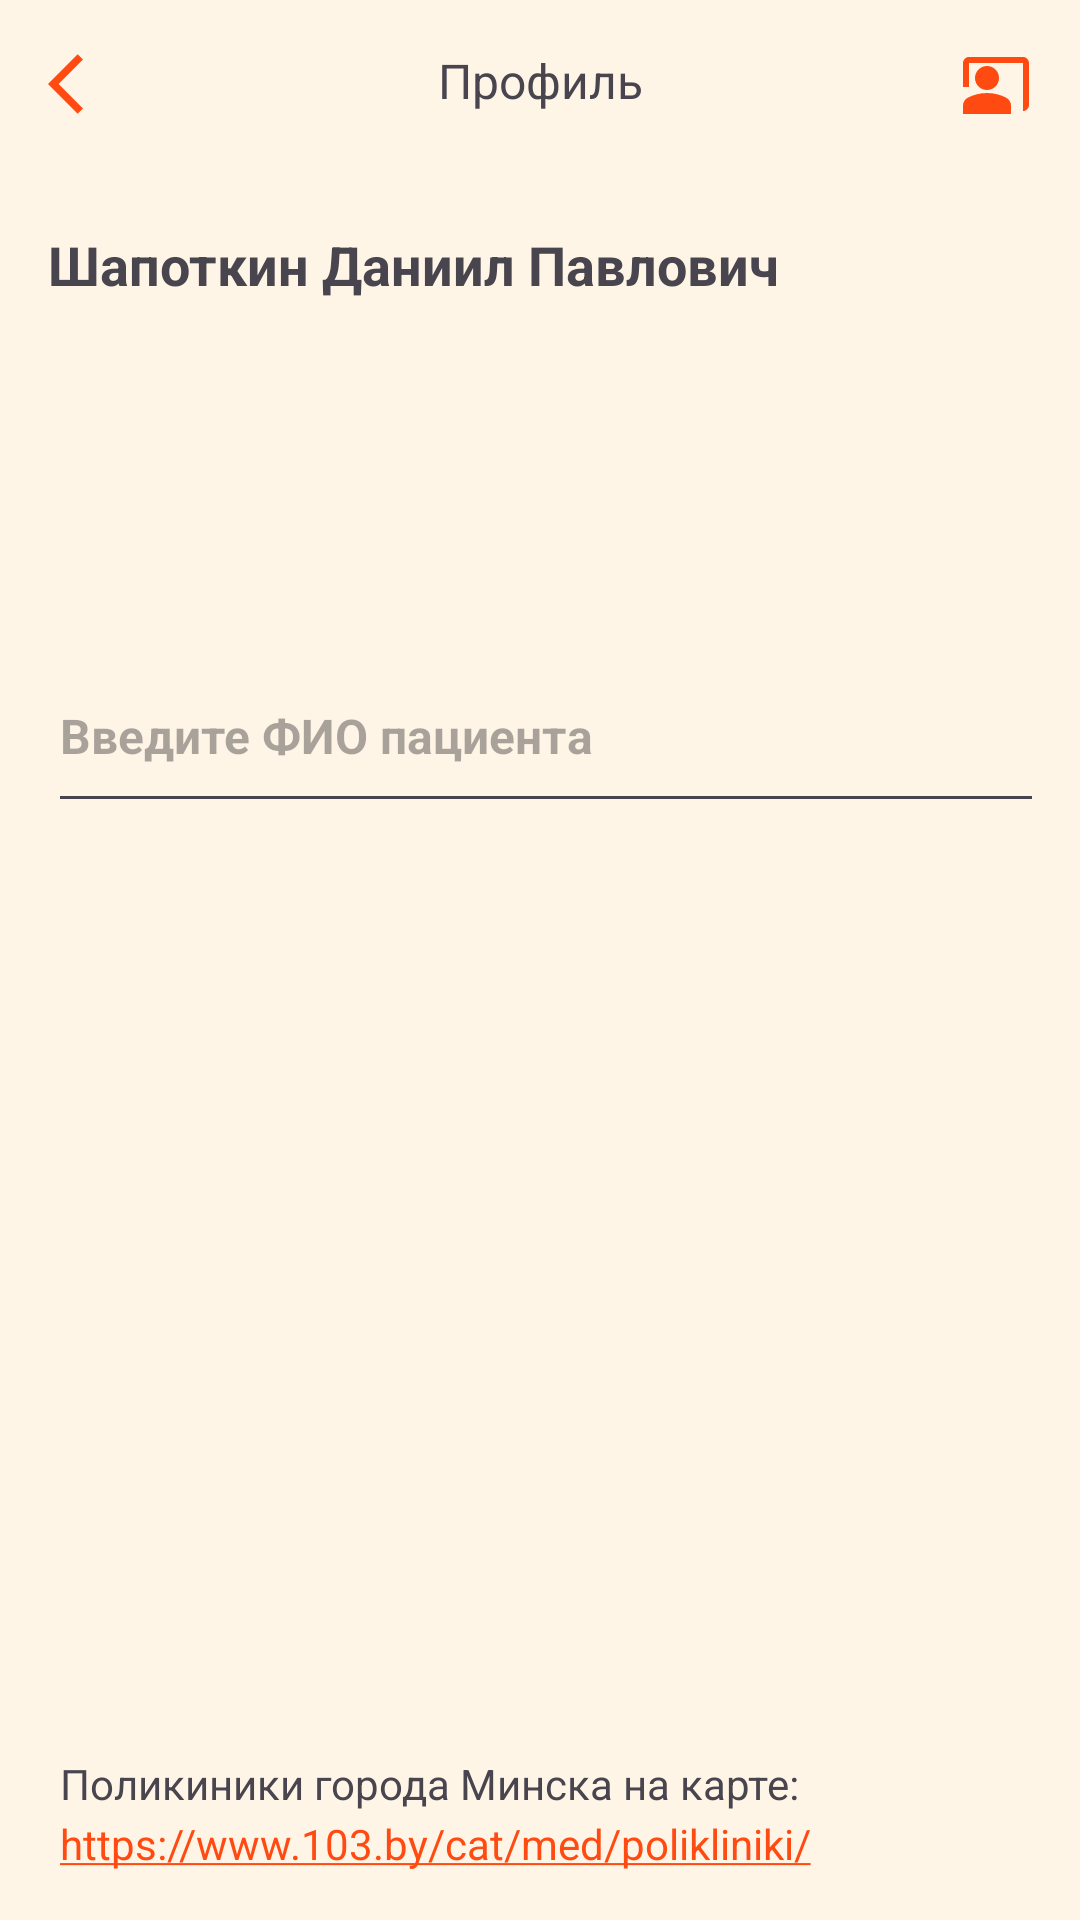

Screen size 1080w x 1920h. Icon name, then its center in pixels as [x,y]:
Назад: [65,84]
